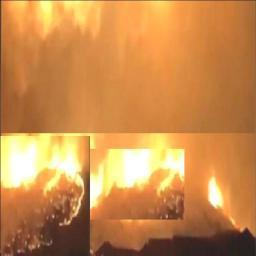Heavy smoke: (2, 0, 256, 132)
Large fire: (1, 139, 91, 223), (105, 148, 185, 220)
